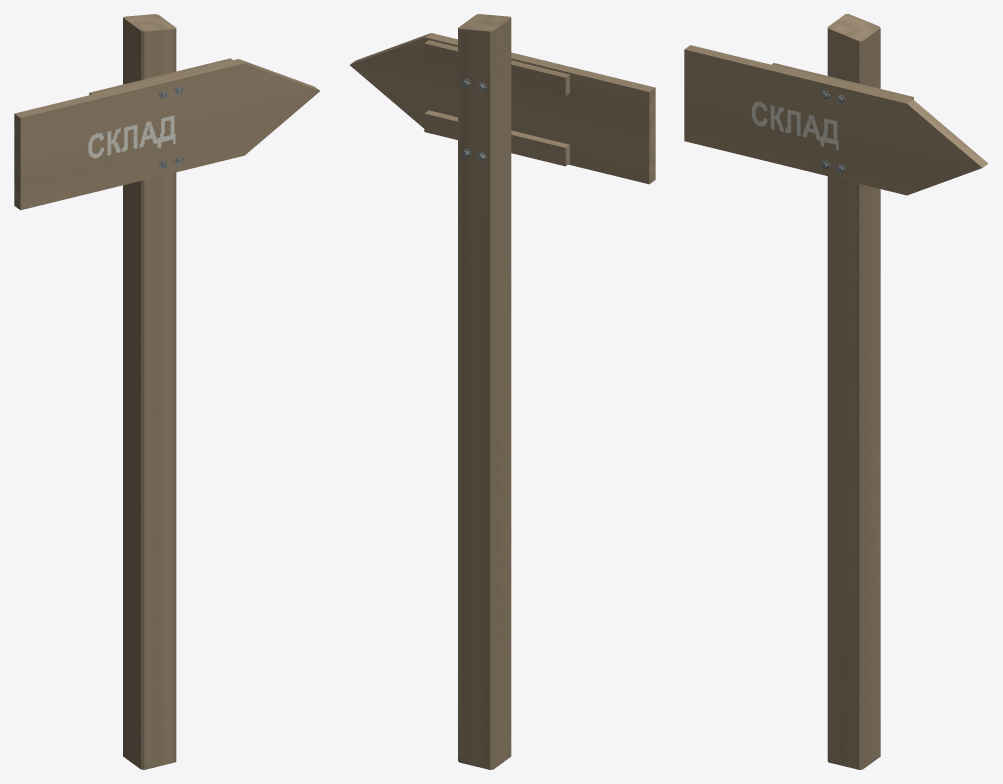
Rendered from wood_post_sign_direction.glb.
3 renders of one model, left to right at view 1: azimuth 30°, elevation 25°; view 2: azimuth 150°, elevation 25°; view 3: azimuth 330°, elevation 25°, orthographic.
Visible parts, largest first — view 1: WoodPostSignDirection; view 2: WoodPostSignDirection; view 3: WoodPostSignDirection.
Boxes of the visible parts, box(x1,y1,x2,y2) form: WoodPostSignDirection: box(14, 14, 319, 769); WoodPostSignDirection: box(350, 14, 655, 769); WoodPostSignDirection: box(684, 14, 988, 769).
Size of what is drawn, in the model's own units: 0.85 by 2 by 0.172.
Materials: 1 (1 with a texture image).
